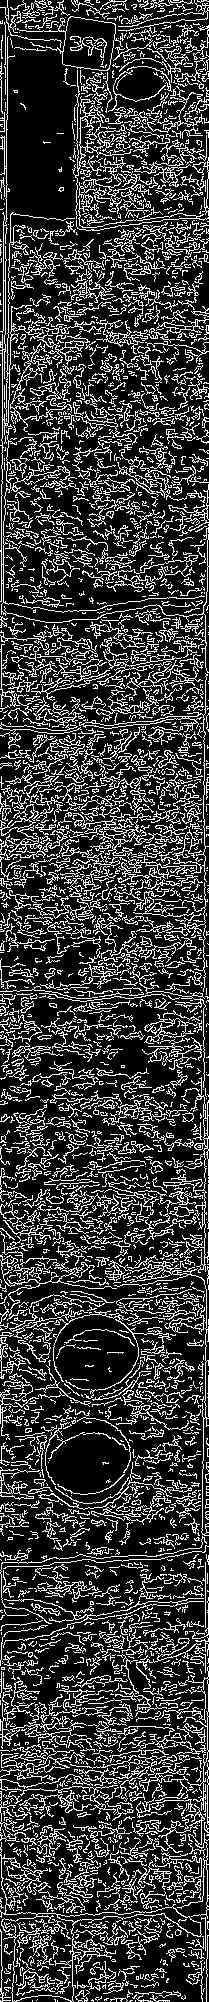hplug: (103, 42, 178, 115)
scal: (37, 1410, 141, 1510), (48, 1309, 143, 1407)
vplug: (11, 19, 92, 243)
